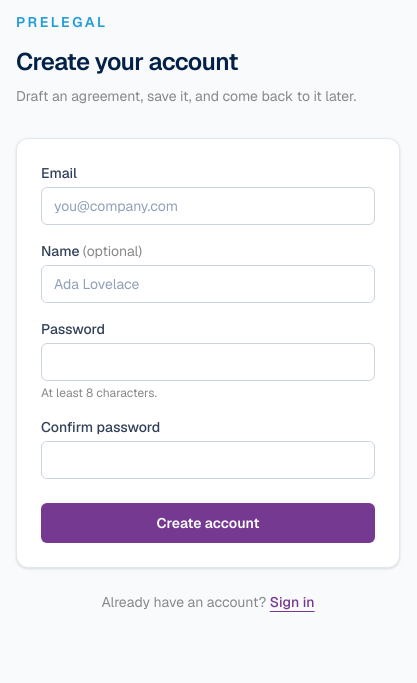
Test case: the sign-up screen › refuses two passwords that do not match, without asking the server
In the field labelled "Email": (208, 206) [41,187,375,225], type "ada@example.com"
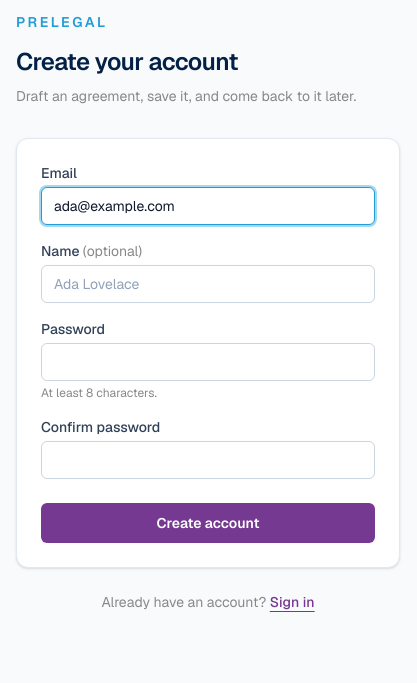
In the password field labelled "Password": (208, 362) [41,343,375,381], type "hunter2hunter2"
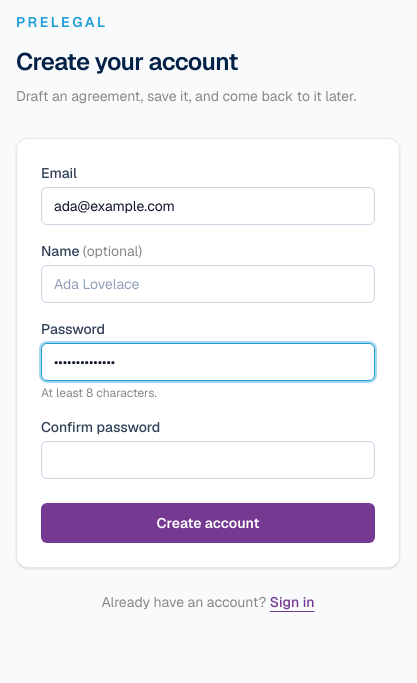
In the password field labelled "Confirm password": (208, 460) [41,441,375,479], type "hunter2hunter3"
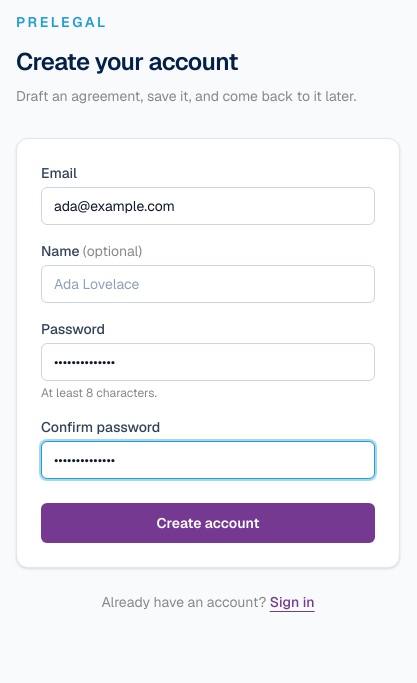
Click the button "Create account": (208, 523) [41,503,375,543]
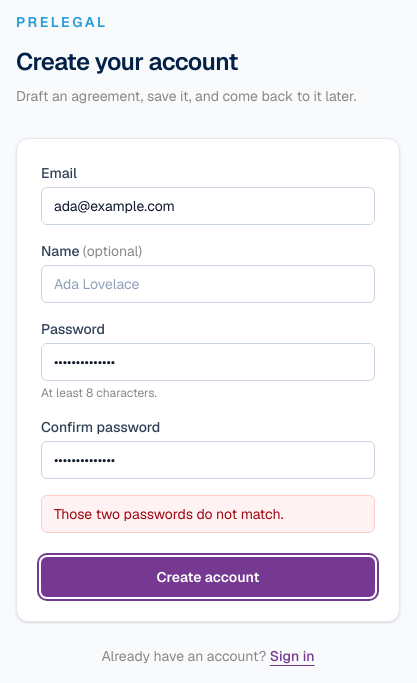
Result: the message shows "do not match" at [54,505,284,523]
